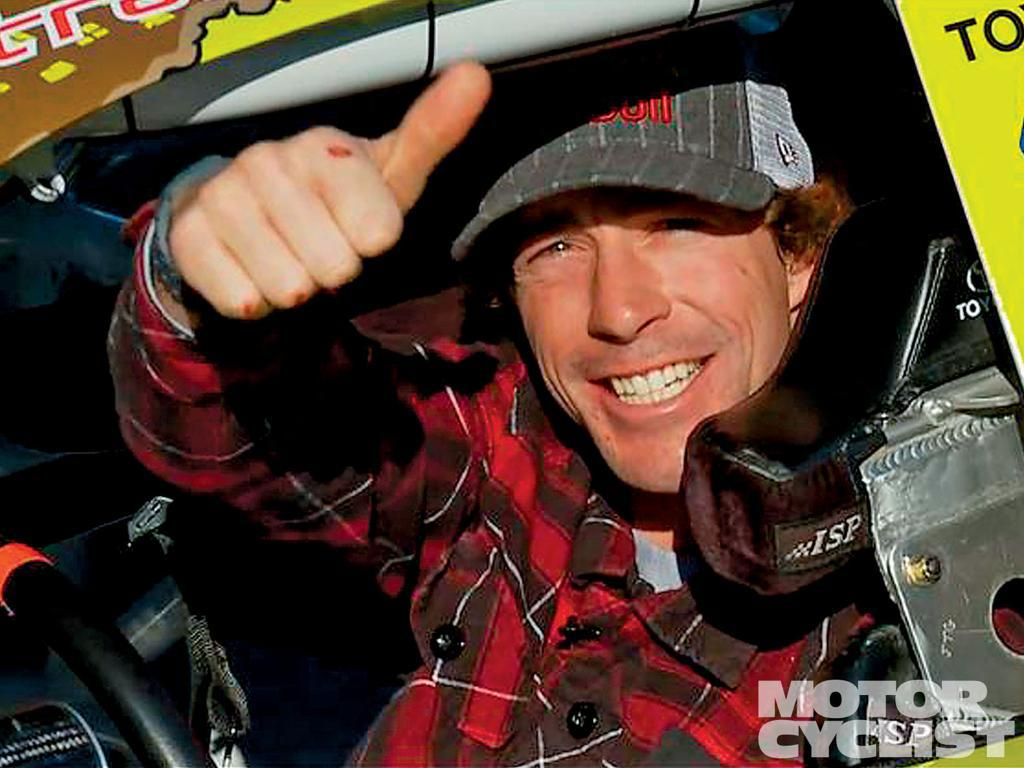face: (511, 169, 789, 491)
